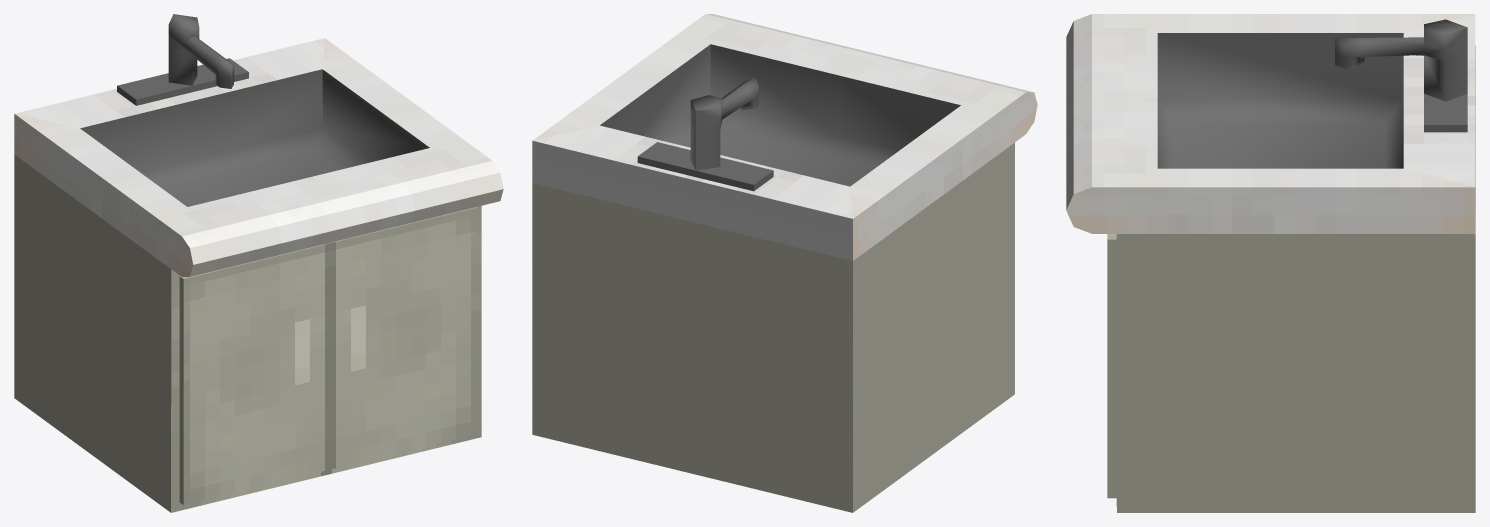
File: Sink.glb
3 views of the same model, side by side, from view 1: azimuth 30°, elevation 25°; view 2: azimuth 150°, elevation 25°; view 3: azimuth 270°, elevation 25° (orthographic). The views are drawn at different scales.
Parts seen in each view (by area): view 1: CounterSink.002; view 2: CounterSink.002; view 3: CounterSink.002.
Part boxes in pixels (bbox=[...]): CounterSink.002: bbox=[14, 14, 503, 512]; CounterSink.002: bbox=[532, 14, 1037, 512]; CounterSink.002: bbox=[1066, 14, 1475, 512].
Bounding box in the file's own units: 4 × 4.29 × 3.99.
3 materials, 2 textured.
